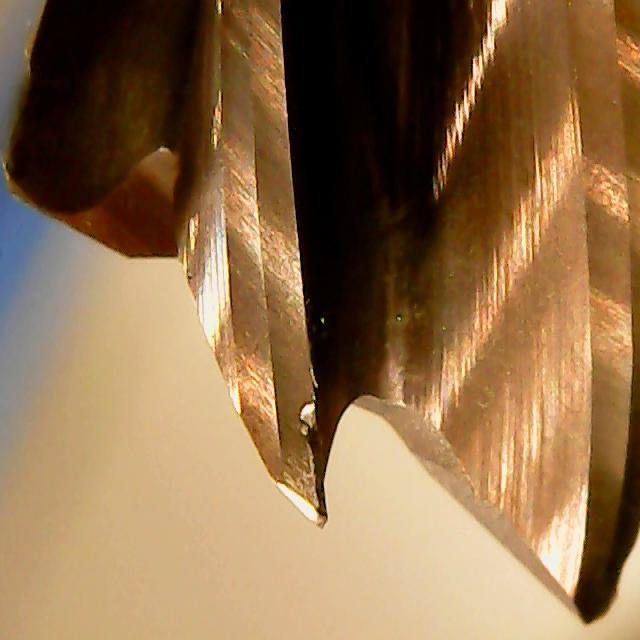Tool-wear-class-1: (229, 277, 342, 533)
